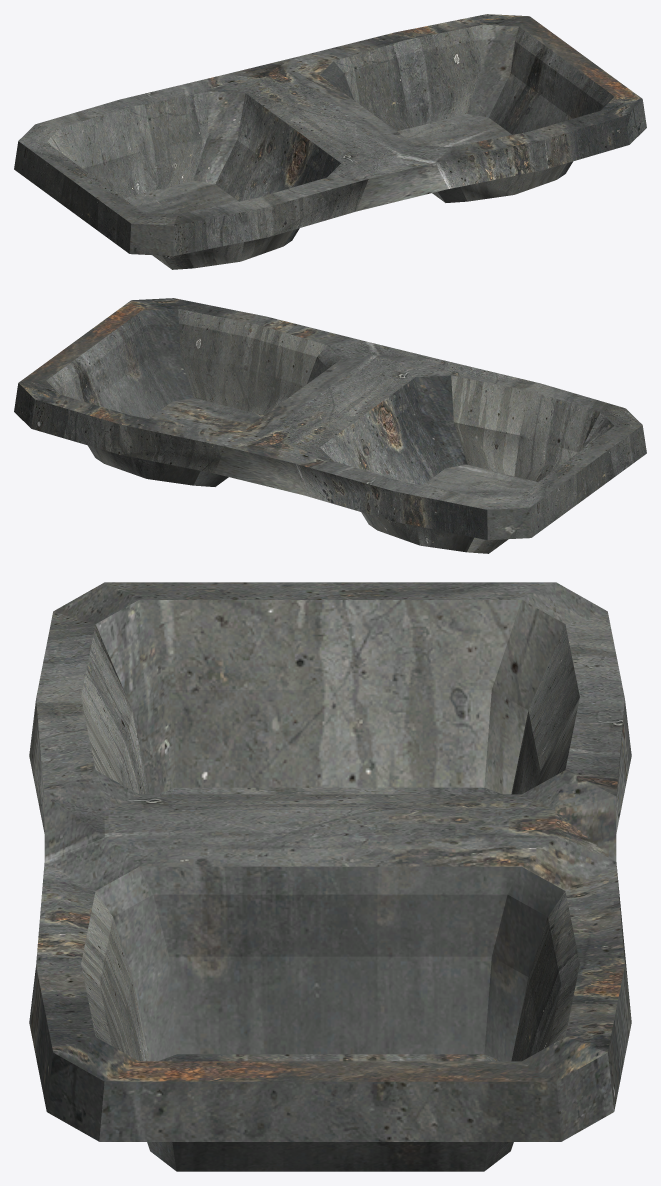
The model's file is Sink.FBX.
The picture shows the model from 3 angles, top to bottom: view 1: azimuth 30°, elevation 25°; view 2: azimuth 150°, elevation 25°; view 3: azimuth 270°, elevation 25°; orthographic projection. The views are drawn at different scales.
Parts seen in each view (by area): view 1: Box002; view 2: Box002; view 3: Box002.
Part boxes in pixels (x1,y1,x2,y2): Box002: [14, 14, 646, 269]; Box002: [14, 298, 646, 553]; Box002: [29, 582, 631, 1171].
Size of the model in its own units: 6.07 by 0.911 by 3.06.
1 material, 1 textured.
